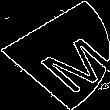M_NW: (8, 21, 102, 89)
